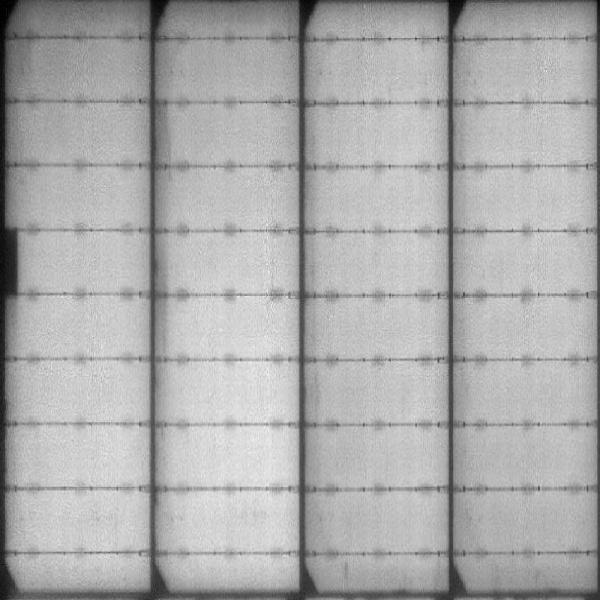black_border: (1, 225, 23, 297)
